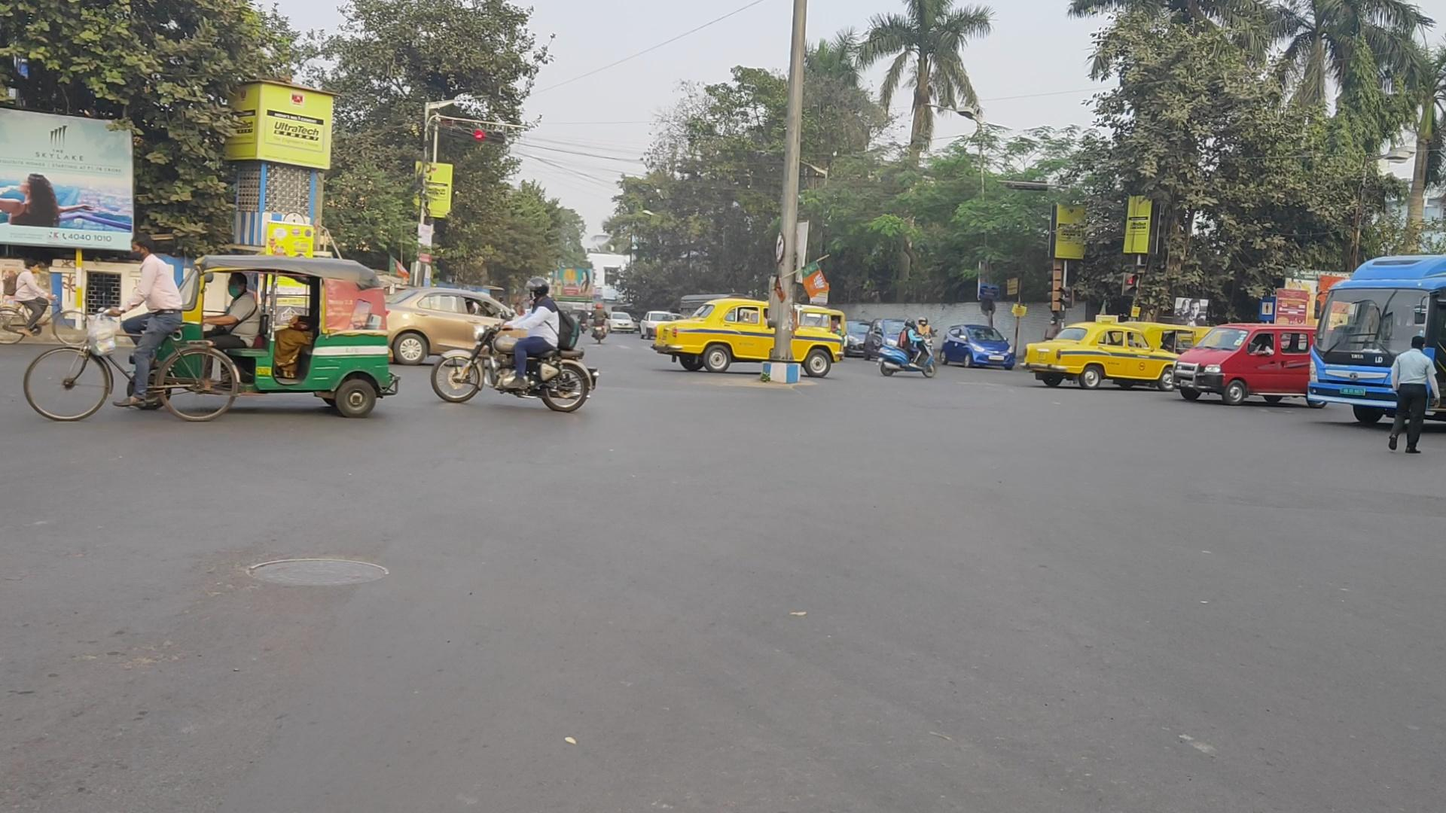Auto: (130, 254, 401, 419)
Bus: (1306, 254, 1446, 425)
bike: (430, 276, 599, 413), (1, 260, 93, 347), (877, 318, 936, 377), (588, 302, 611, 346)
car: (651, 297, 844, 377), (376, 287, 548, 367), (1020, 320, 1182, 391), (940, 324, 1015, 370), (862, 317, 921, 364), (639, 310, 675, 340), (607, 311, 635, 334)
van: (1170, 323, 1331, 409)
